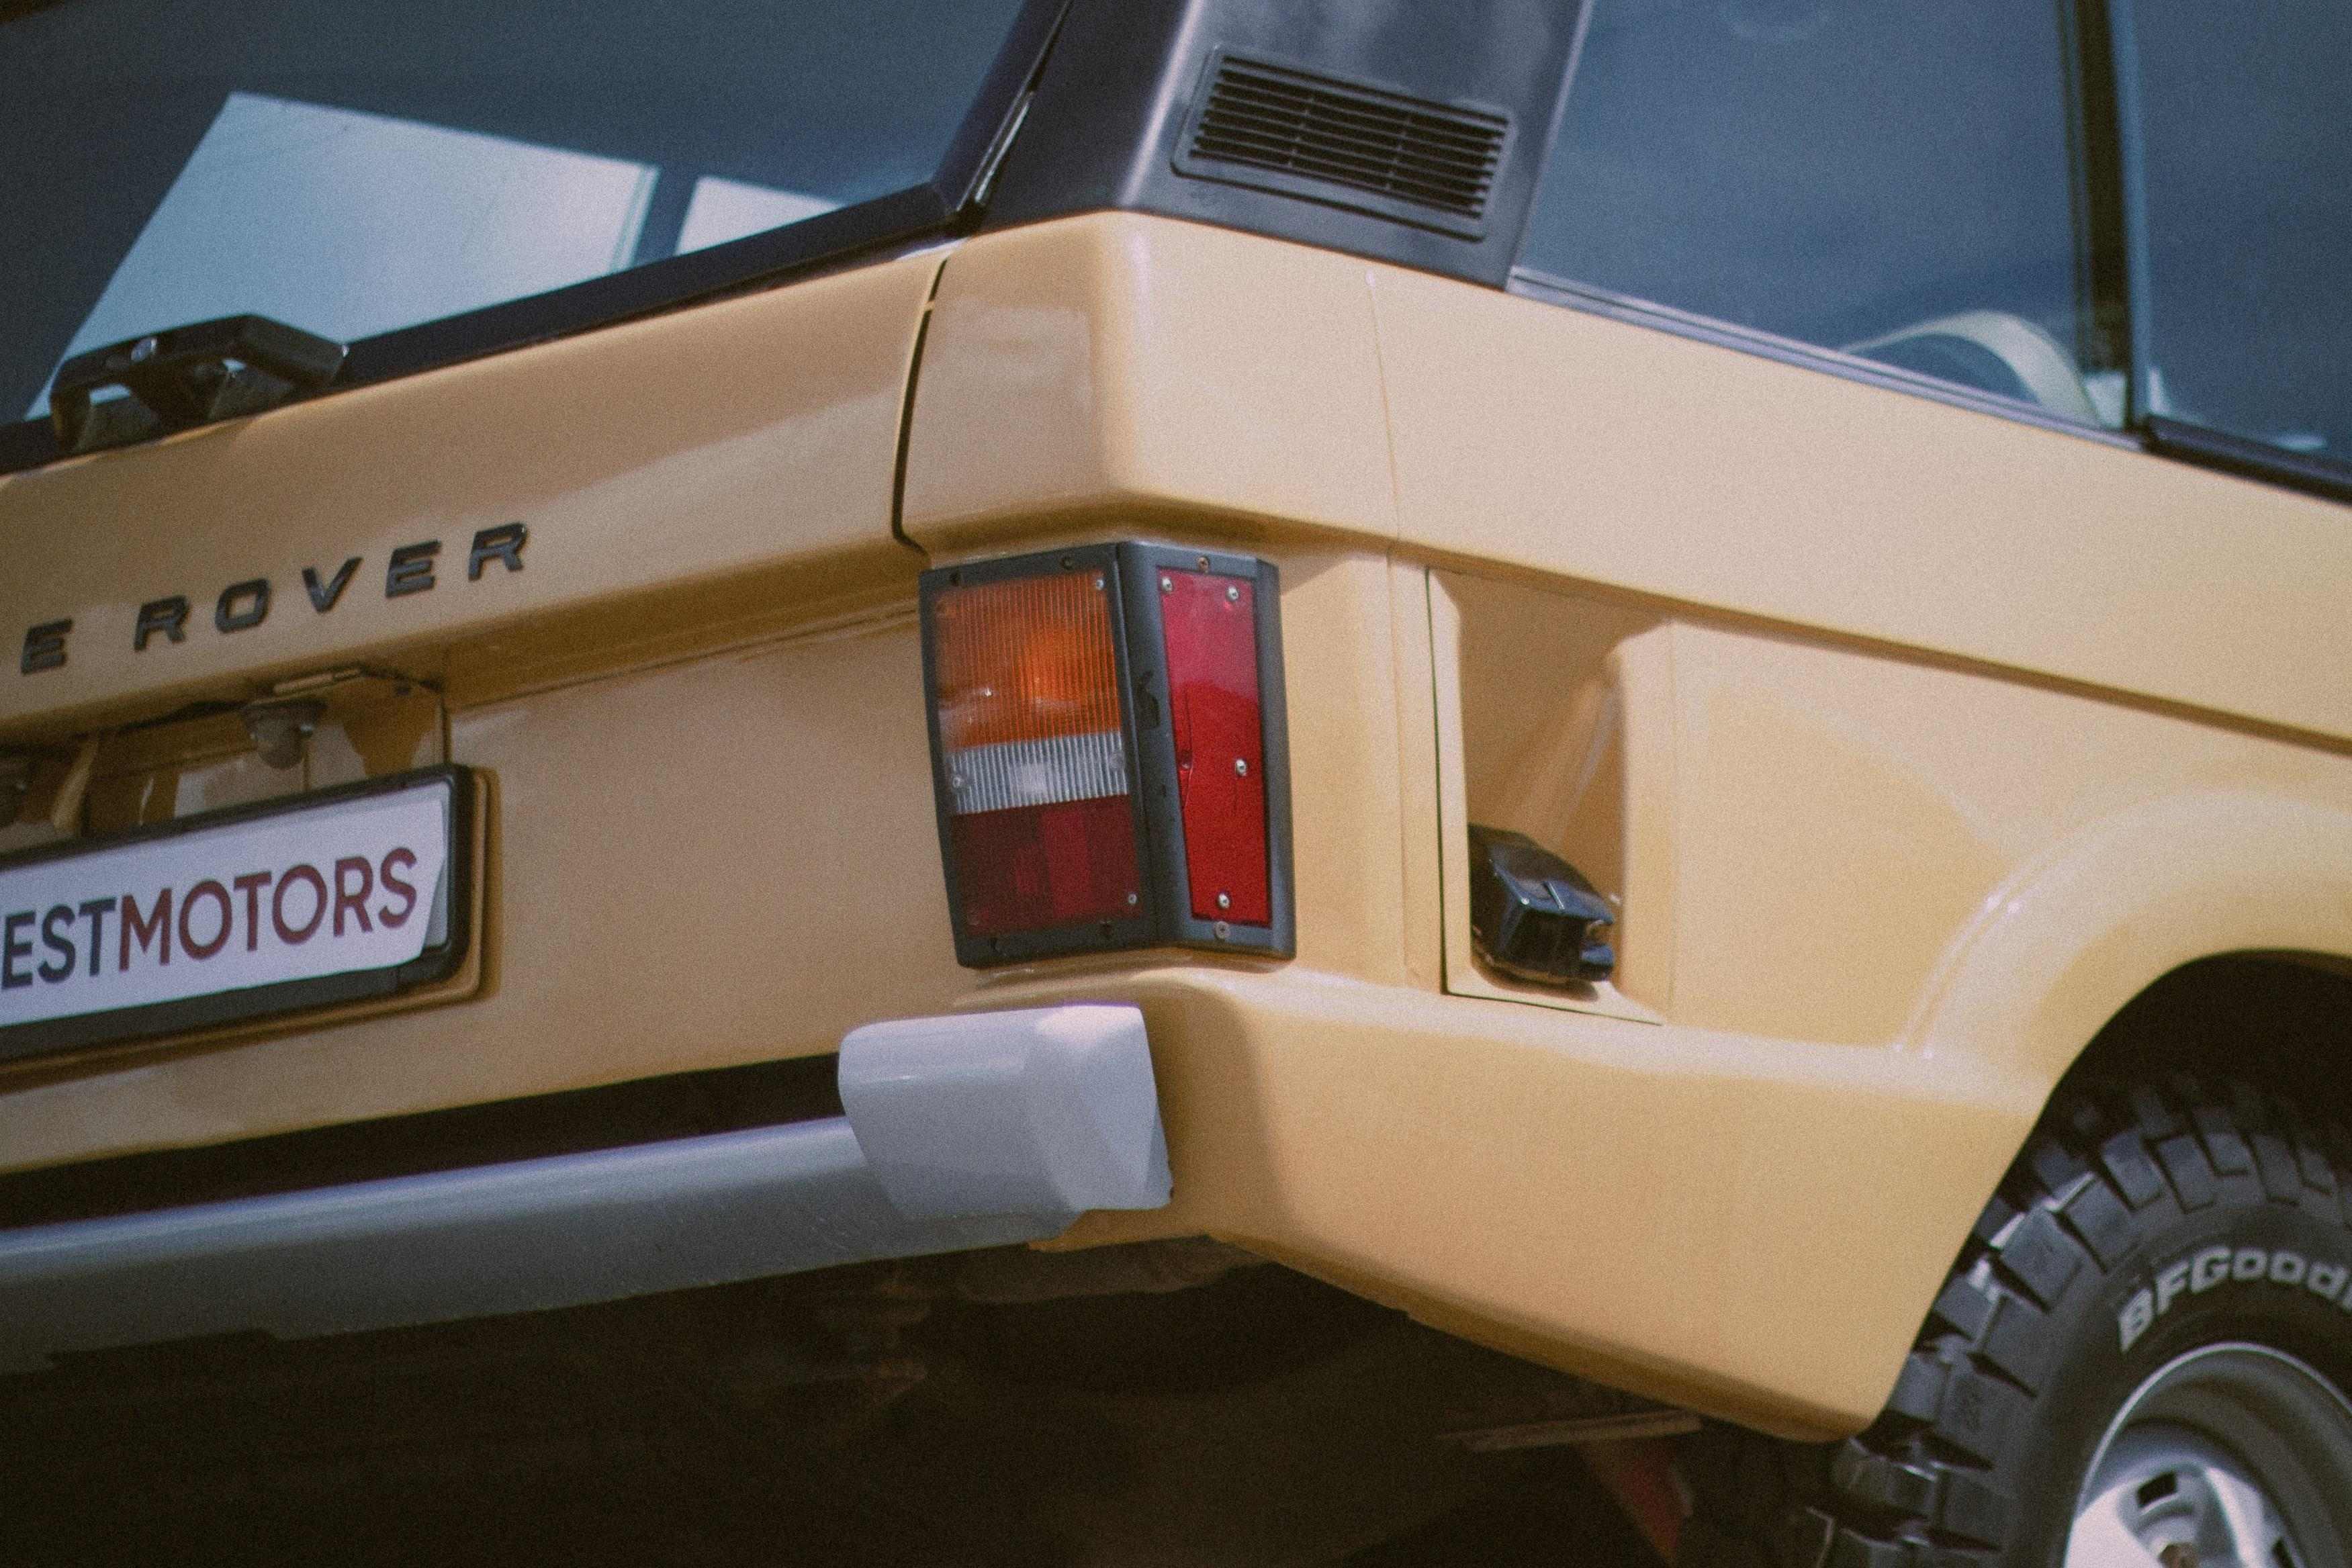range rover: (0, 488, 572, 744)
